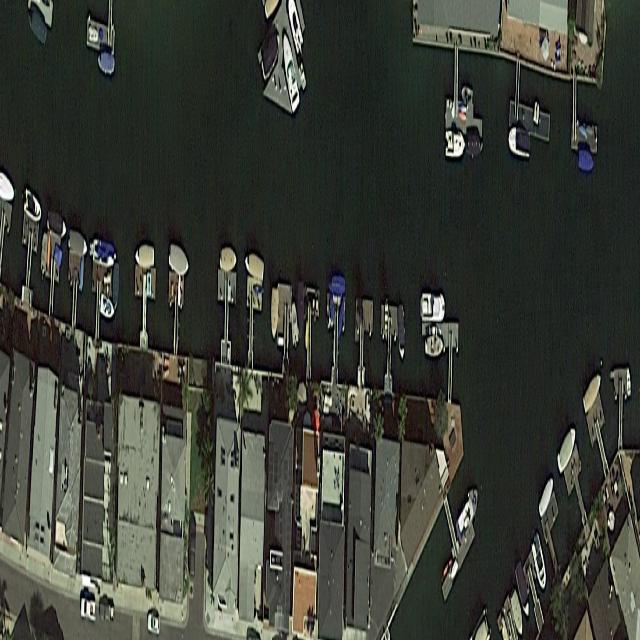ship: (455, 480, 481, 548), (280, 29, 300, 116), (261, 28, 282, 84), (557, 421, 577, 479), (582, 365, 603, 419), (531, 532, 548, 598), (168, 240, 191, 285), (286, 0, 304, 56), (515, 561, 531, 623), (27, 5, 47, 49), (538, 473, 555, 522), (24, 187, 43, 229), (244, 249, 265, 287), (510, 587, 525, 640), (420, 293, 446, 323), (508, 126, 530, 161), (68, 228, 89, 263), (92, 239, 117, 268), (47, 210, 67, 244), (135, 243, 155, 271), (446, 131, 466, 158), (397, 304, 406, 363), (97, 49, 115, 78), (100, 293, 116, 324), (425, 335, 444, 360), (271, 287, 279, 342), (577, 150, 595, 174), (290, 301, 299, 347), (297, 281, 304, 340), (220, 249, 238, 271), (328, 275, 345, 297), (466, 136, 483, 157), (113, 263, 120, 310), (460, 84, 473, 108), (298, 62, 307, 92), (384, 298, 389, 342)
small-vehicle: (188, 524, 196, 579), (147, 612, 161, 638), (81, 598, 96, 621), (99, 602, 115, 623)
